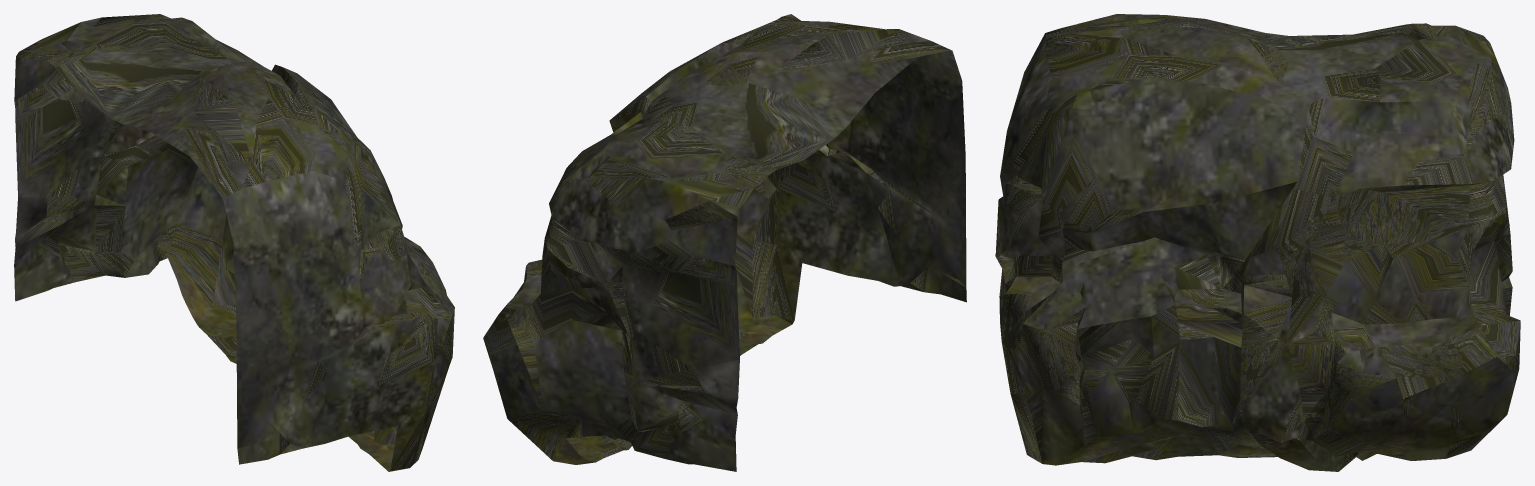
The model's file is shore-cliff-a.lod0.glb.
3 views of the same model, side by side, from view 1: azimuth 30°, elevation 25°; view 2: azimuth 150°, elevation 25°; view 3: azimuth 270°, elevation 25° (orthographic). The views are drawn at different scales.
Visible parts, largest first — view 1: cliff_02_lp_cliff02_0; view 2: cliff_02_lp_cliff02_0; view 3: cliff_02_lp_cliff02_0.
Boxes of the visible parts, x1,y1,x2,y2 form: cliff_02_lp_cliff02_0: (14,14,454,471); cliff_02_lp_cliff02_0: (483,14,966,471); cliff_02_lp_cliff02_0: (995,14,1520,471).
Size of the model in its own units: 10.92 by 13.67 by 17.12.
Materials: 1 (1 with a texture image).
